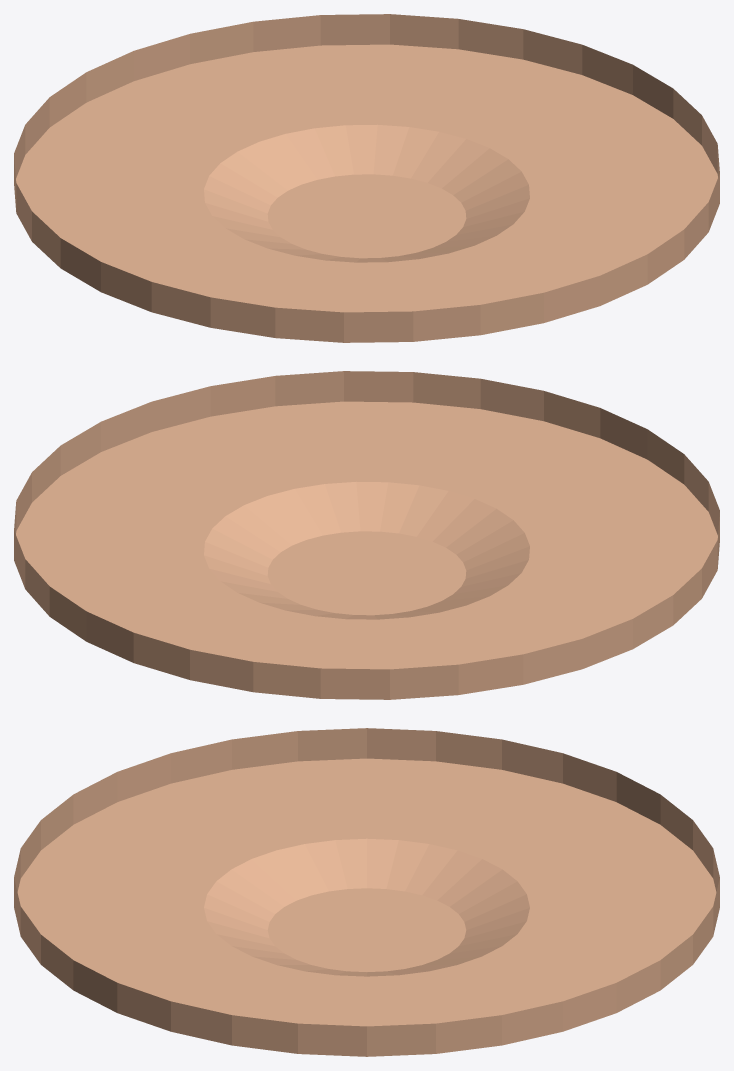
The model's file is Ground.glb.
The picture shows the model from 3 angles, top to bottom: view 1: azimuth 30°, elevation 25°; view 2: azimuth 150°, elevation 25°; view 3: azimuth 270°, elevation 25°; orthographic projection.
Visible parts, largest first — view 1: Ground; view 2: Ground; view 3: Ground.
Boxes of the visible parts, x1,y1,x2,y2 form: Ground: [14, 14, 719, 342]; Ground: [14, 371, 719, 699]; Ground: [14, 728, 719, 1056].
Bounding box in the file's own units: 40 × 3.31 × 40.
